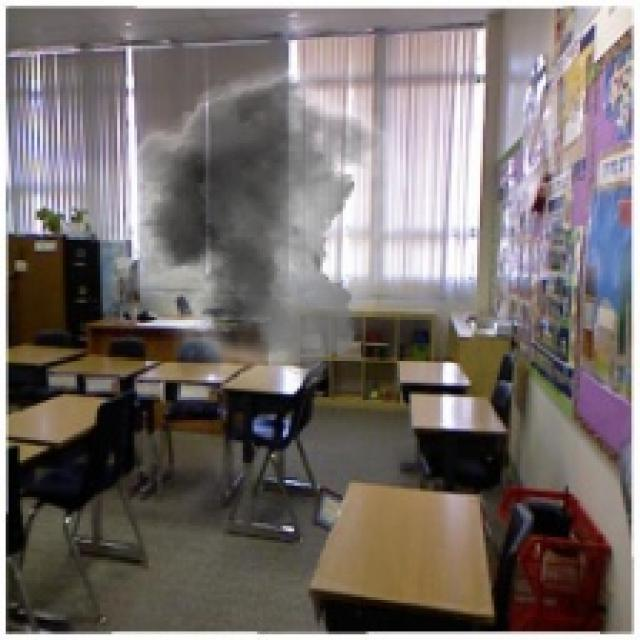Smoke: (89, 46, 452, 388)
